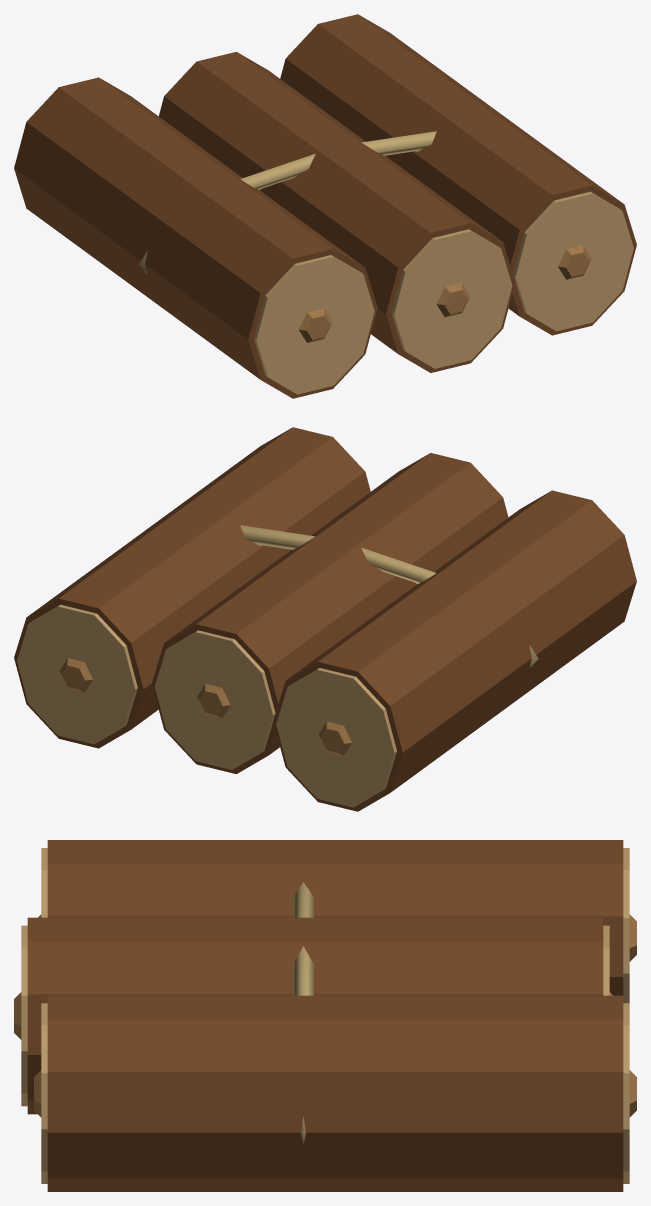
Rendered from pile-wood-3.gltf.
3 views of the same model, one above another, from view 1: azimuth 30°, elevation 25°; view 2: azimuth 150°, elevation 25°; view 3: azimuth 270°, elevation 25° (orthographic). The views are drawn at different scales.
Parts seen in each view (by area): view 1: pile-wood-3; view 2: pile-wood-3; view 3: pile-wood-3.
Boxes of the visible parts, bbox=[...] form: pile-wood-3: bbox=[14, 14, 636, 398]; pile-wood-3: bbox=[14, 427, 636, 811]; pile-wood-3: bbox=[14, 840, 636, 1191].
Size of the model in its own units: 0.7107 by 0.2378 by 0.779.
